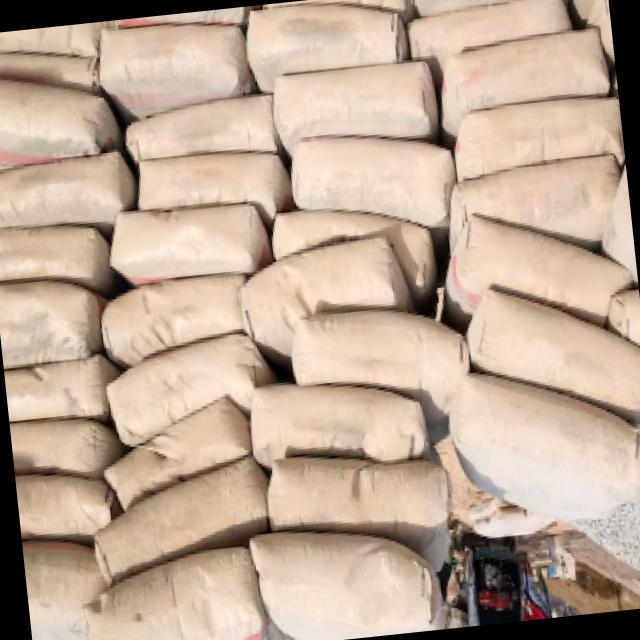KantongSemen: (0, 0, 640, 640), (3, 333, 266, 560), (246, 377, 459, 640), (239, 226, 469, 408), (446, 360, 640, 541), (268, 58, 460, 240), (0, 65, 132, 244), (124, 98, 290, 240), (441, 158, 625, 268), (74, 552, 265, 640), (107, 200, 263, 294), (451, 95, 625, 176), (432, 39, 610, 108)
